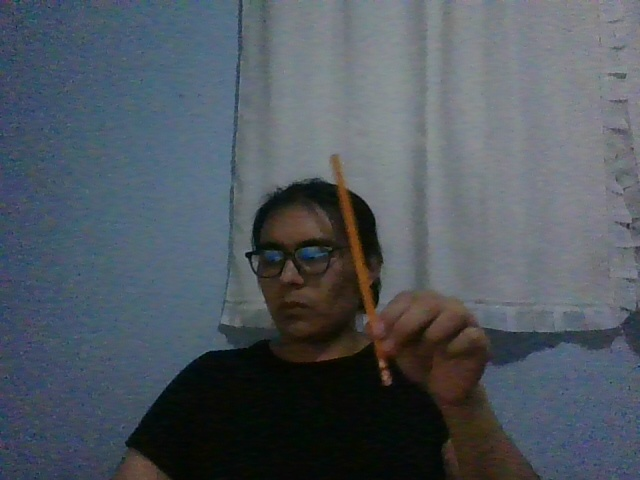lapiz: (328, 153, 393, 387)
